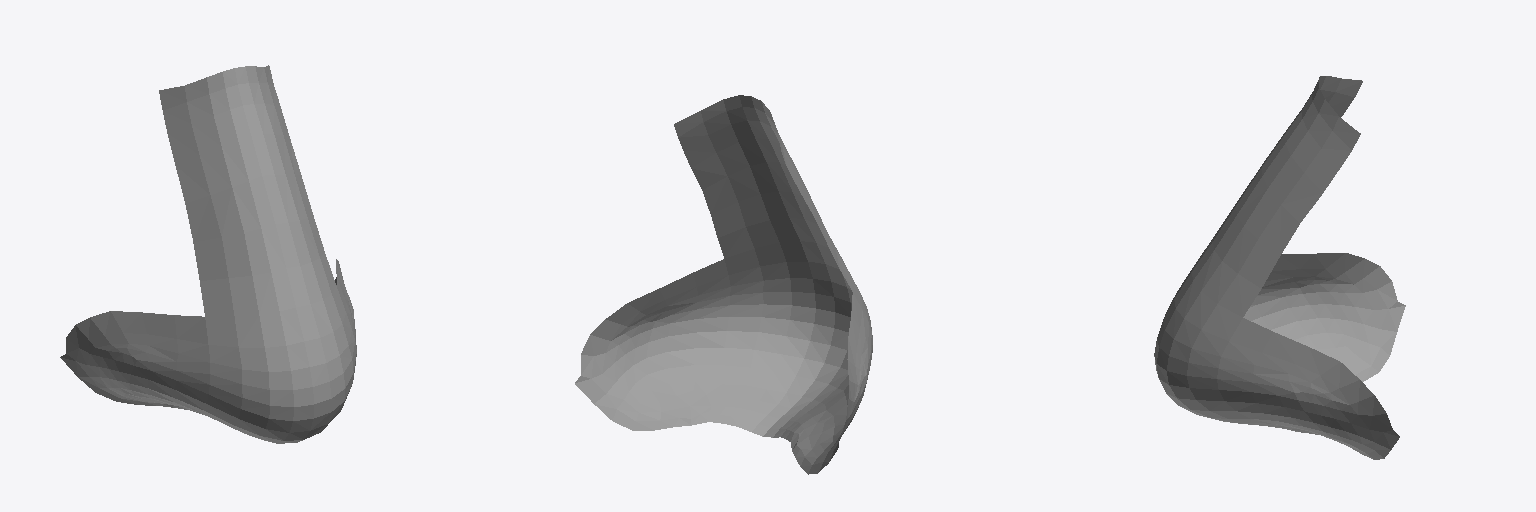
The model's file is euro-nose-long.obj.
3 views of the same model, side by side, from view 1: azimuth 30°, elevation 25°; view 2: azimuth 150°, elevation 25°; view 3: azimuth 270°, elevation 25° (orthographic).
Visible parts, largest first — view 1: euro-nose-long.001; view 2: euro-nose-long.001; view 3: euro-nose-long.001.
Boxes of the visible parts, box(x1,y1,x2,y2) form: euro-nose-long.001: box(60, 65, 356, 443); euro-nose-long.001: box(575, 95, 872, 474); euro-nose-long.001: box(1154, 76, 1405, 459).
Bounding box in the file's own units: 0.2717 × 0.3379 × 0.2209.